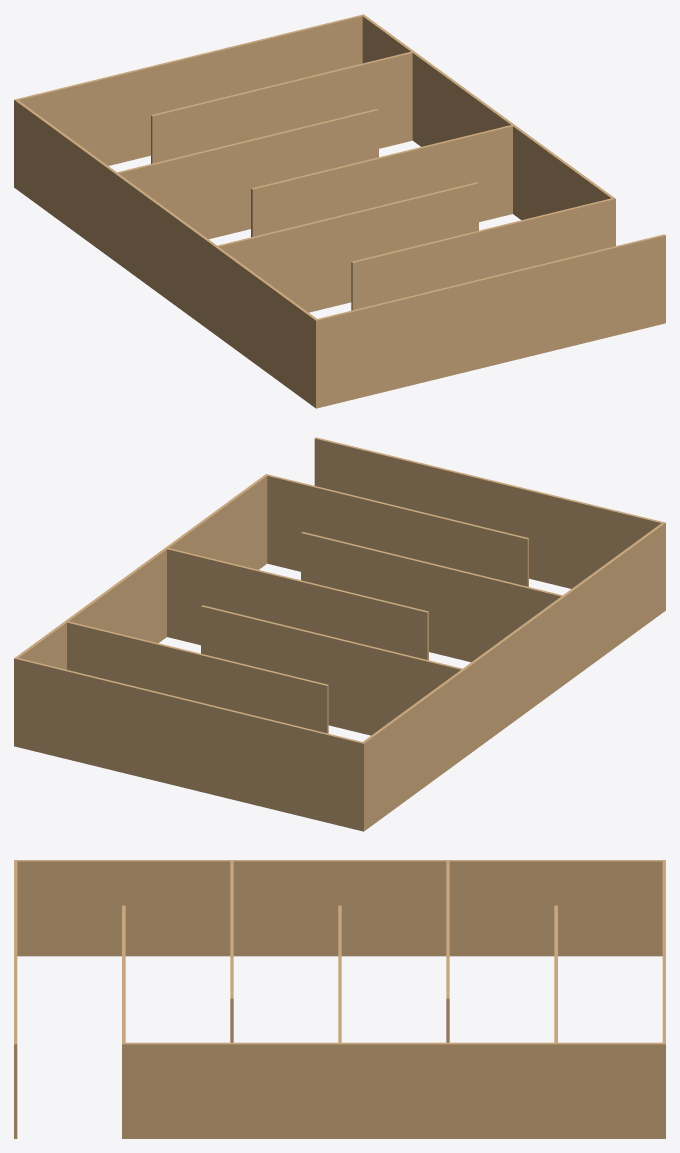
The picture shows the model from 3 angles, top to bottom: view 1: azimuth 30°, elevation 25°; view 2: azimuth 150°, elevation 25°; view 3: azimuth 270°, elevation 25°; orthographic projection. The views are drawn at different scales.
Parts seen in each view (by area): view 1: group_0; view 2: group_0; view 3: group_0.
Part boxes in pixels (left/top/right/bottom): group_0: left=14, top=14, right=665, bottom=408; group_0: left=14, top=437, right=665, bottom=831; group_0: left=14, top=860, right=665, bottom=1138.
Bounding box in the file's own units: 49.21 × 73.62 × 11.81.
